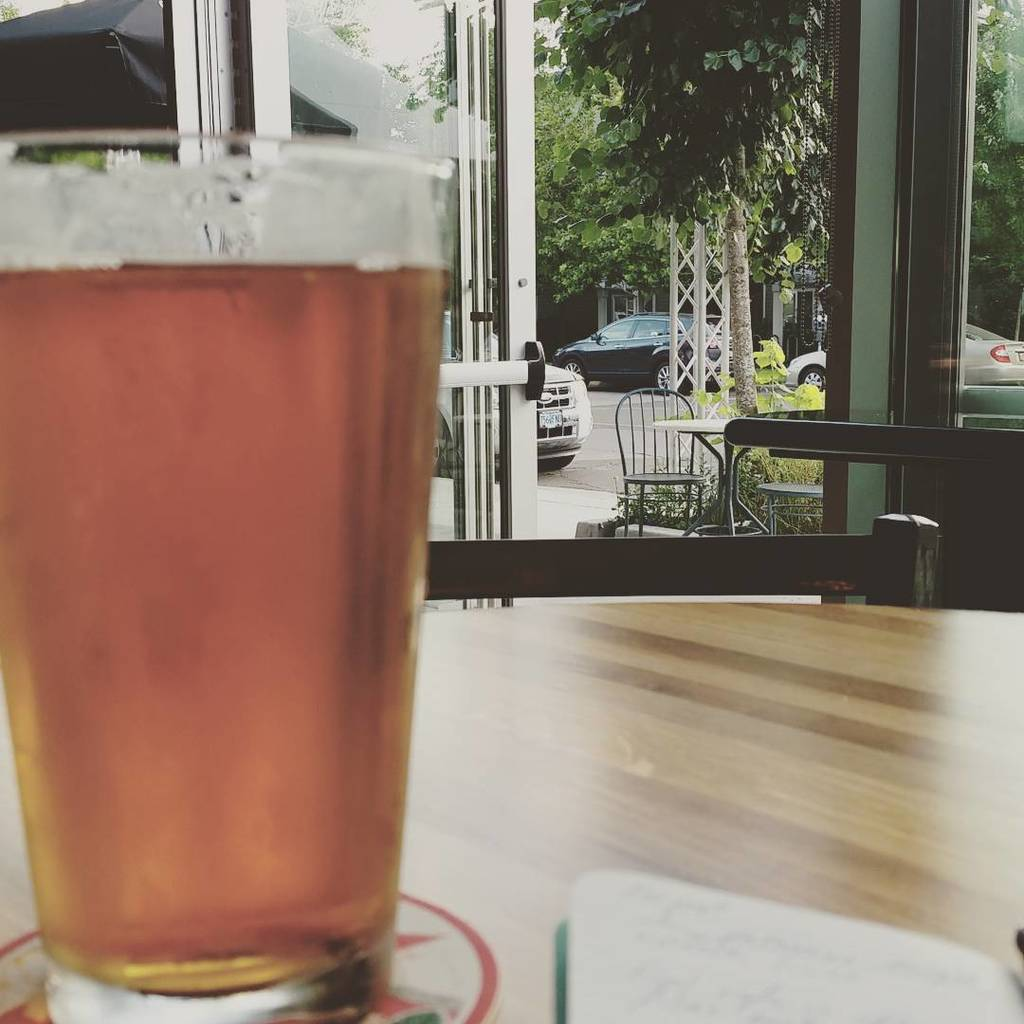Beer: (0, 255, 438, 992)
